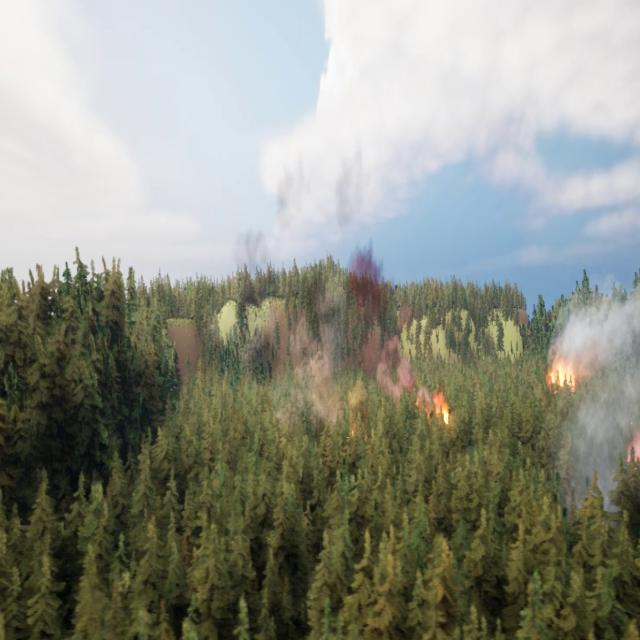fire: (417, 388, 459, 430), (548, 366, 578, 390)
smoke: (276, 145, 432, 412), (542, 268, 640, 512)
